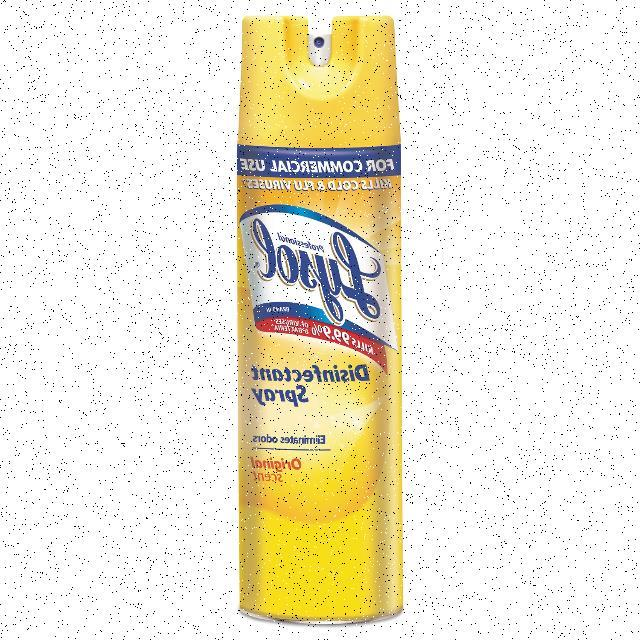chemical_spray_can: (236, 15, 402, 624)
